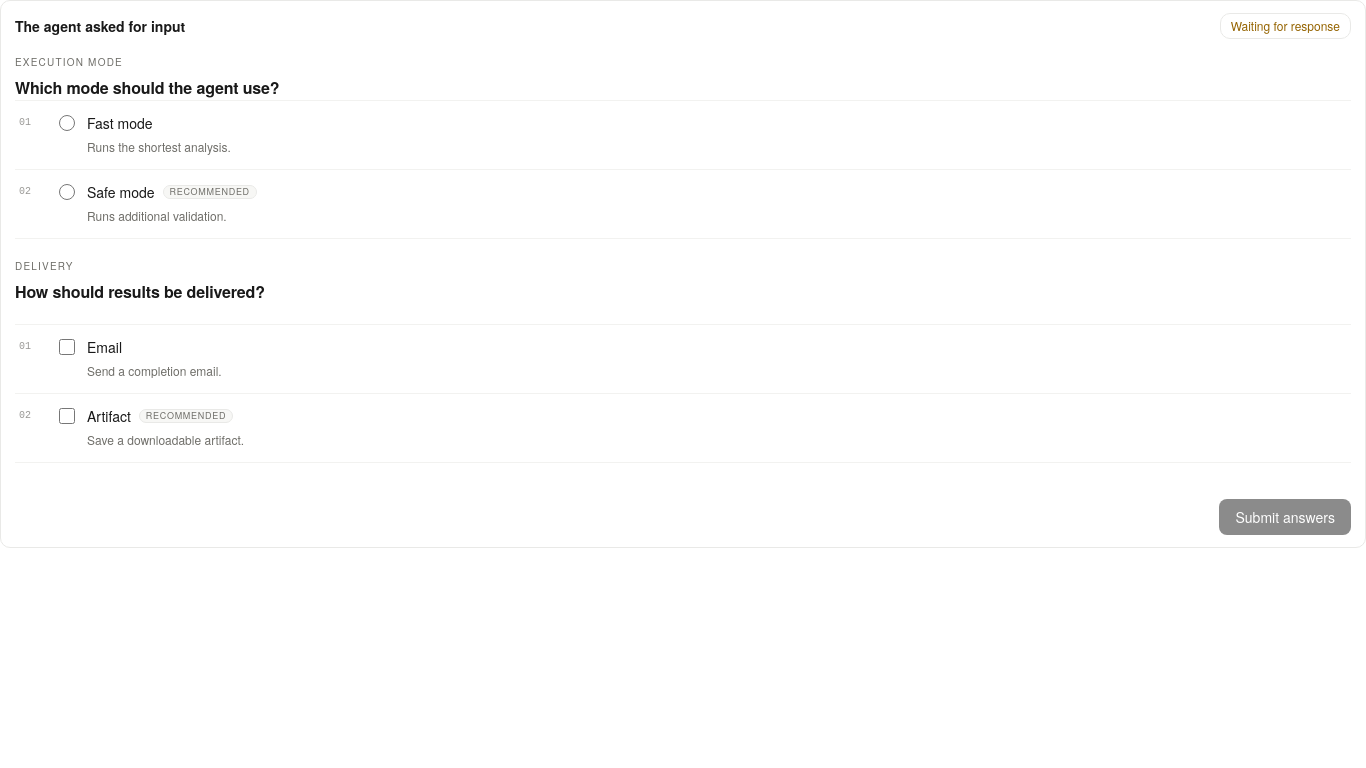
Test: AgentInteractionCard › presents Ask User as one editorial decision surface with numbered option rows
Expected: the number of elements with test id "agent-ask-question" is 2, [15, 55, 1351, 259]; [15, 259, 1351, 483]
Click the radio button labelled "02 Safe mode Recommended Runs additional validation.". click: (67, 192)
box: [59, 184, 75, 200]
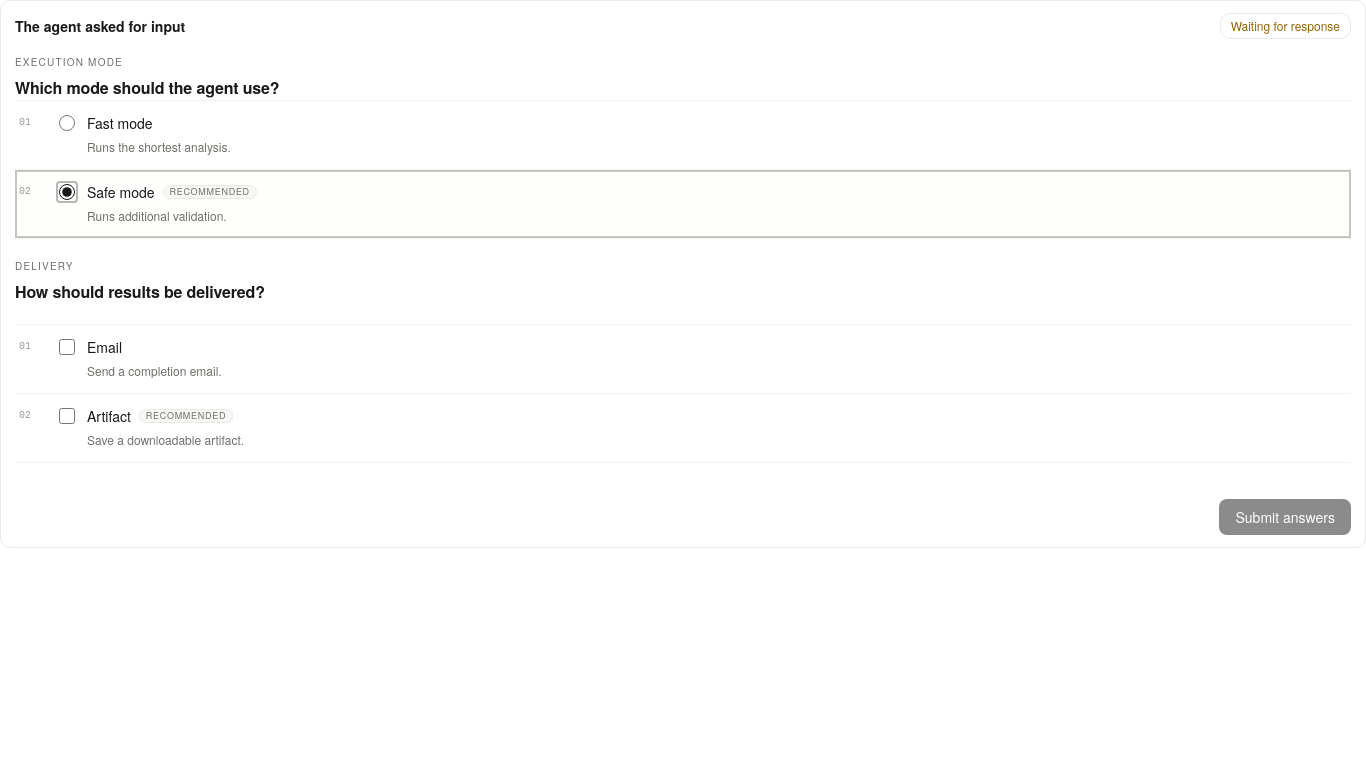
Expected: the label with test id "agent-ask-option" has class "bg-muted/30" "dark:bg-muted/20", [15, 170, 1351, 238]
Expected: the radio button labelled "02 Safe mode Recommended Runs additional validation." is checked, [59, 184, 75, 200]
